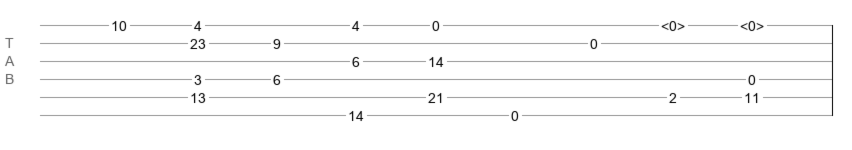0: (432, 18, 440, 28), (511, 108, 519, 118), (590, 36, 598, 46), (748, 72, 756, 82)
10: (111, 18, 127, 28)
11: (744, 90, 760, 100)
13: (190, 90, 206, 100)
14: (348, 108, 364, 118), (428, 54, 444, 64)
2: (669, 90, 677, 100)
21: (428, 90, 444, 100)
23: (190, 36, 206, 46)
3: (194, 72, 202, 82)
4: (194, 18, 202, 28), (352, 18, 360, 28)
6: (273, 72, 281, 82), (352, 54, 360, 64)
9: (273, 36, 281, 46)
harmonic: (661, 18, 685, 28), (740, 18, 764, 28)
